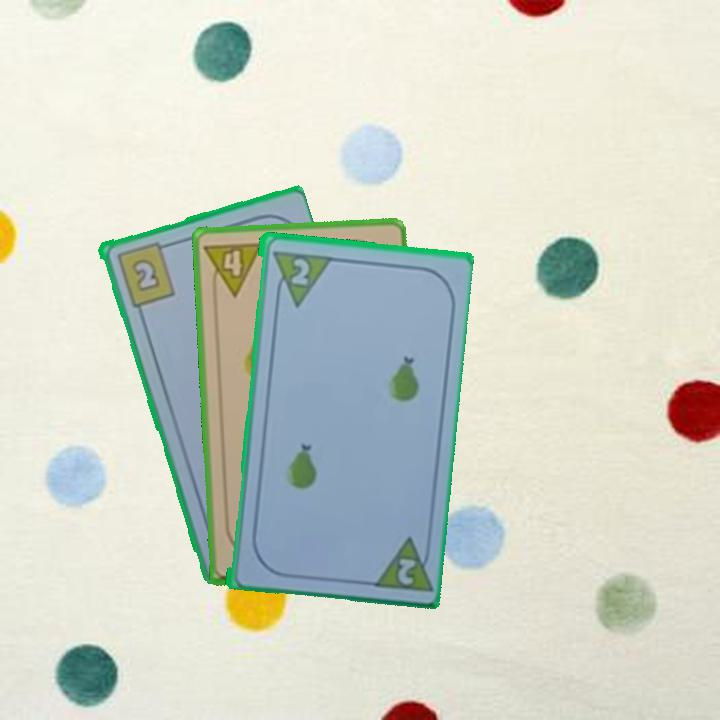2b: (112, 237, 177, 309)
2p: (366, 532, 433, 595), (287, 254, 312, 288)
4p: (201, 238, 266, 300)
